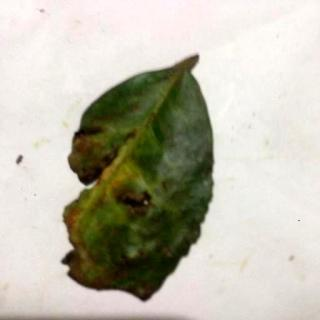Red Leaf Spot: (64, 55, 215, 292)
